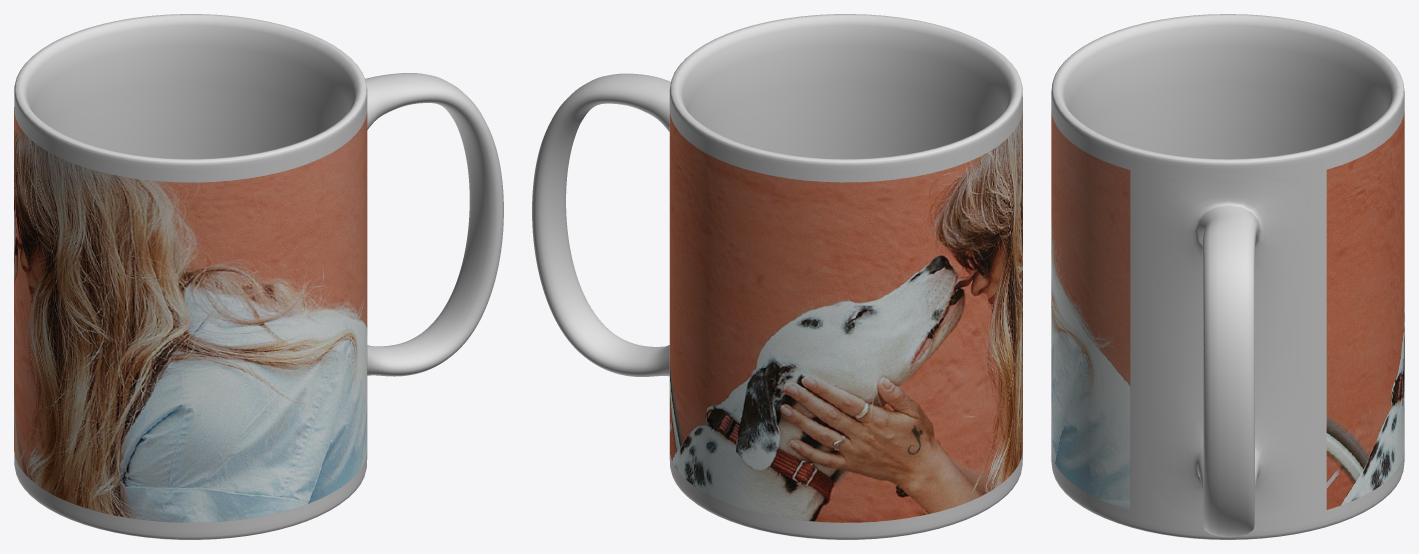
File: mug.glb
3 views of the same model, side by side, from view 1: azimuth 30°, elevation 25°; view 2: azimuth 150°, elevation 25°; view 3: azimuth 270°, elevation 25° (orthographic).
Parts seen in each view (by area): view 1: Motif, Mug; view 2: Motif, Mug; view 3: Mug, Motif.
Boxes of the visible parts, <box> form: Motif: <box>14,107,367,522</box>; Mug: <box>14,14,503,539</box>; Motif: <box>669,111,1022,522</box>; Mug: <box>532,14,1022,539</box>; Mug: <box>1051,14,1404,539</box>; Motif: <box>1051,110,1404,521</box>.
Size of the model in its own units: 0.1203 by 0.095 by 0.08.
Materials: 2 (1 with a texture image).
